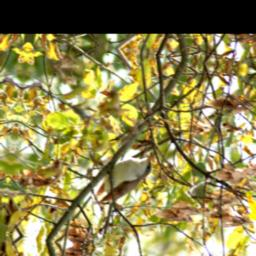Cuckoo: (95, 142, 160, 221)
